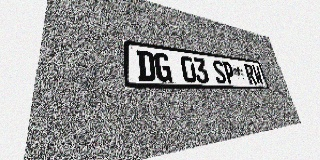0: (180, 56, 197, 83)
3: (193, 57, 209, 83)
D: (136, 50, 156, 82)
G: (154, 52, 173, 82)
P: (222, 61, 237, 84)
R: (244, 64, 257, 85)
S: (212, 60, 227, 84)
W: (251, 65, 264, 85)
